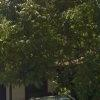Tree: (10, 3, 100, 89)
